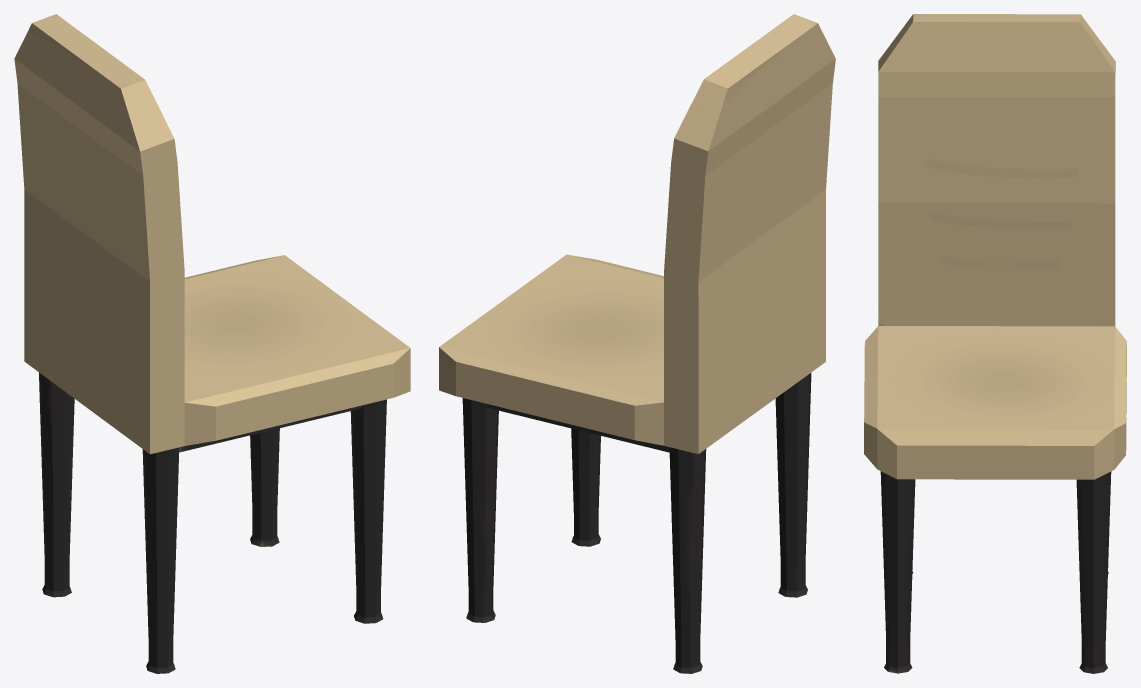
The model's file is Sandalye.fbx.
3 renders of one model, left to right at view 1: azimuth 30°, elevation 25°; view 2: azimuth 150°, elevation 25°; view 3: azimuth 270°, elevation 25°, orthographic. The views are drawn at different scales.
Visible parts, largest first — view 1: Cylinder.008; view 2: Cylinder.008; view 3: Cylinder.008.
Boxes of the visible parts, x1=… form: Cylinder.008: x1=14, y1=14, x2=410, y2=673; Cylinder.008: x1=439, y1=14, x2=835, y2=673; Cylinder.008: x1=864, y1=14, x2=1126, y2=673.
Size of the model in its own units: 242 by 481 by 210.
Materials: 1 (1 with a texture image).
